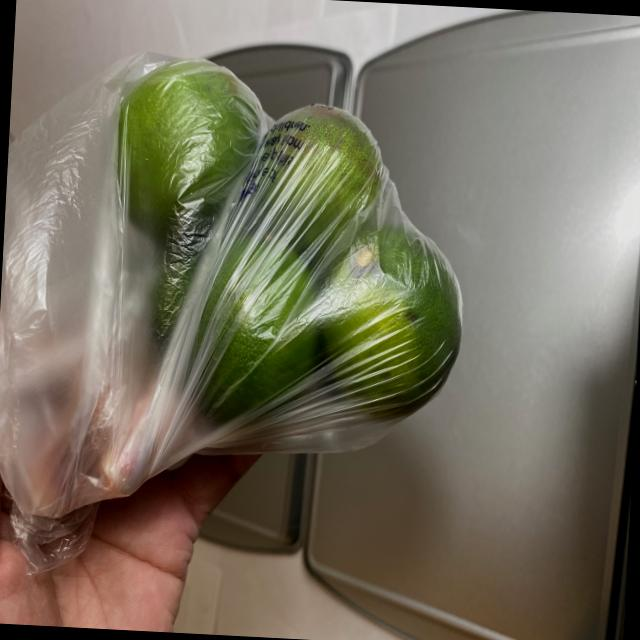lemon: (88, 56, 474, 447)
